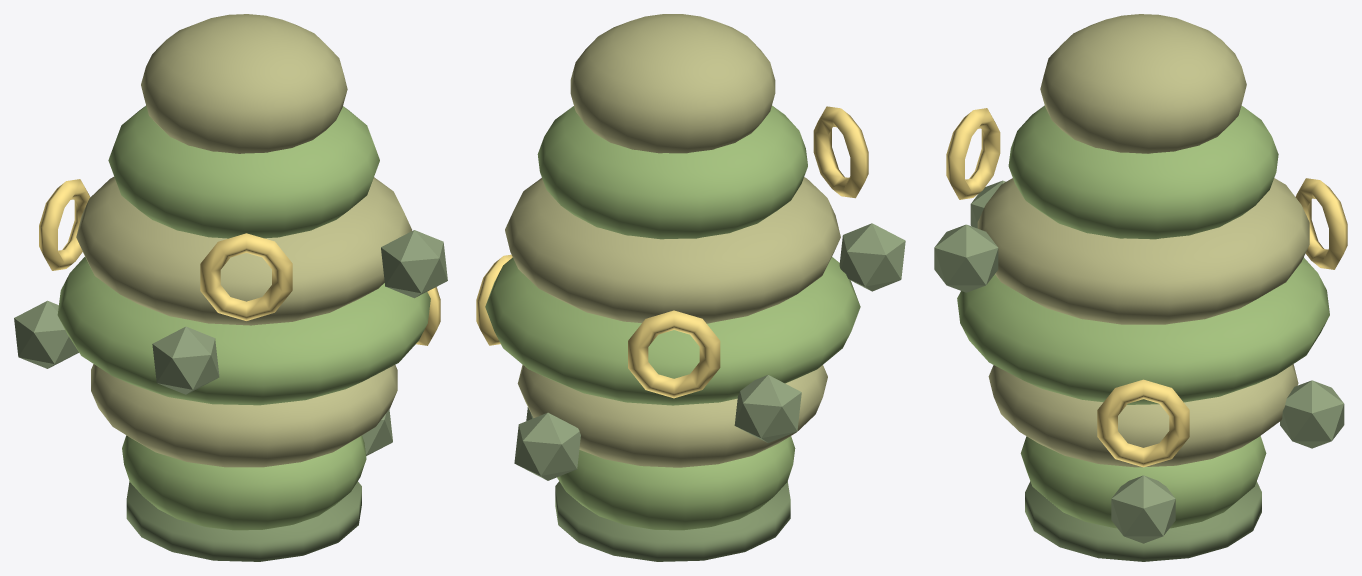
The model's file is egg_prehistoric_07.glb.
3 views of the same model, side by side, from view 1: azimuth 30°, elevation 25°; view 2: azimuth 150°, elevation 25°; view 3: azimuth 270°, elevation 25° (orthographic).
Parts seen in each view (by area): view 1: ball; view 2: ball; view 3: ball.
Part boxes in pixels (box(x1,y1,x2,y2)): ball: box(14, 14, 447, 561); ball: box(476, 14, 905, 561); ball: box(934, 14, 1347, 561).
Bounding box in the file's own units: 0.7577 × 0.99 × 0.7674.
